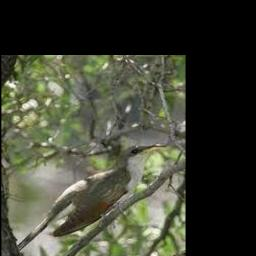Cuckoo: (17, 144, 165, 251)
